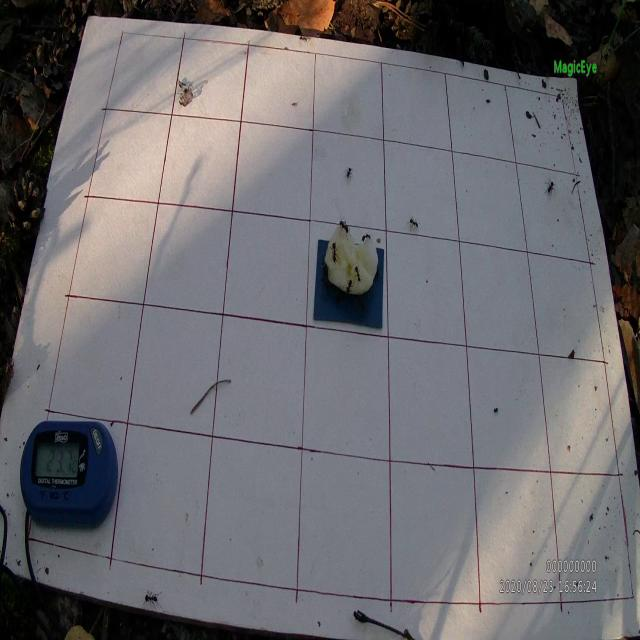Ant: (140, 590, 163, 608), (339, 219, 352, 241), (544, 179, 556, 201), (329, 241, 340, 264), (408, 216, 421, 232), (345, 278, 355, 297), (344, 166, 354, 179), (354, 266, 362, 282), (299, 34, 309, 44), (362, 234, 372, 242)
